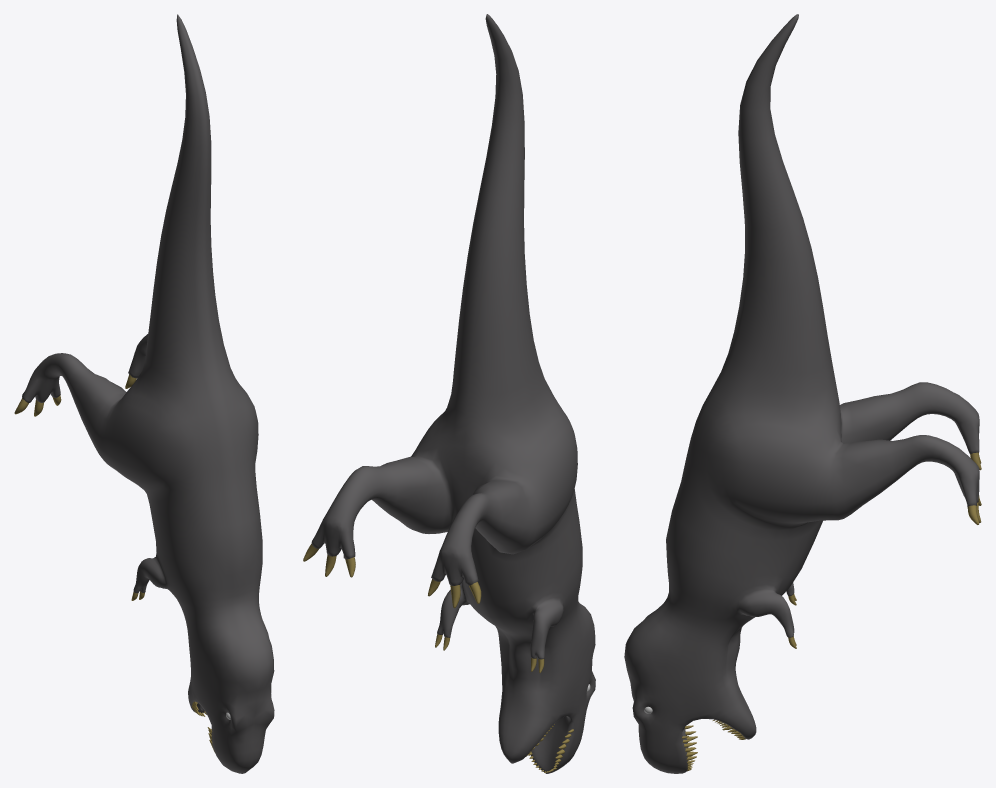
File: t_rex.gltf
3 renders of one model, left to right at view 1: azimuth 30°, elevation 25°; view 2: azimuth 150°, elevation 25°; view 3: azimuth 270°, elevation 25°, orthographic. The views are drawn at different scales.
Size of the model in its own units: 27.24 by 119 by 50.65.
